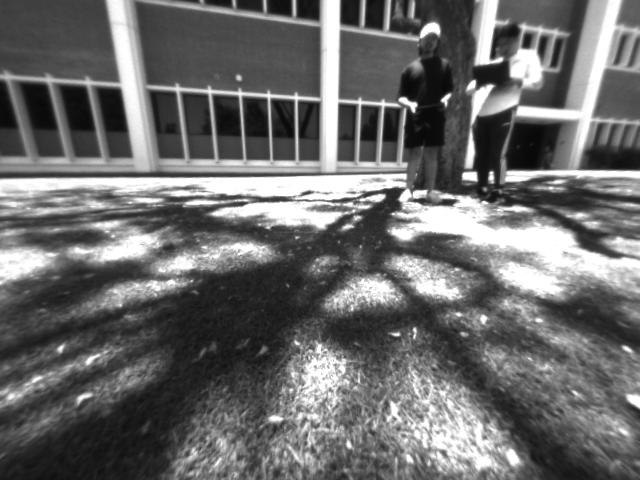dogtoy: (154, 233, 184, 256)
